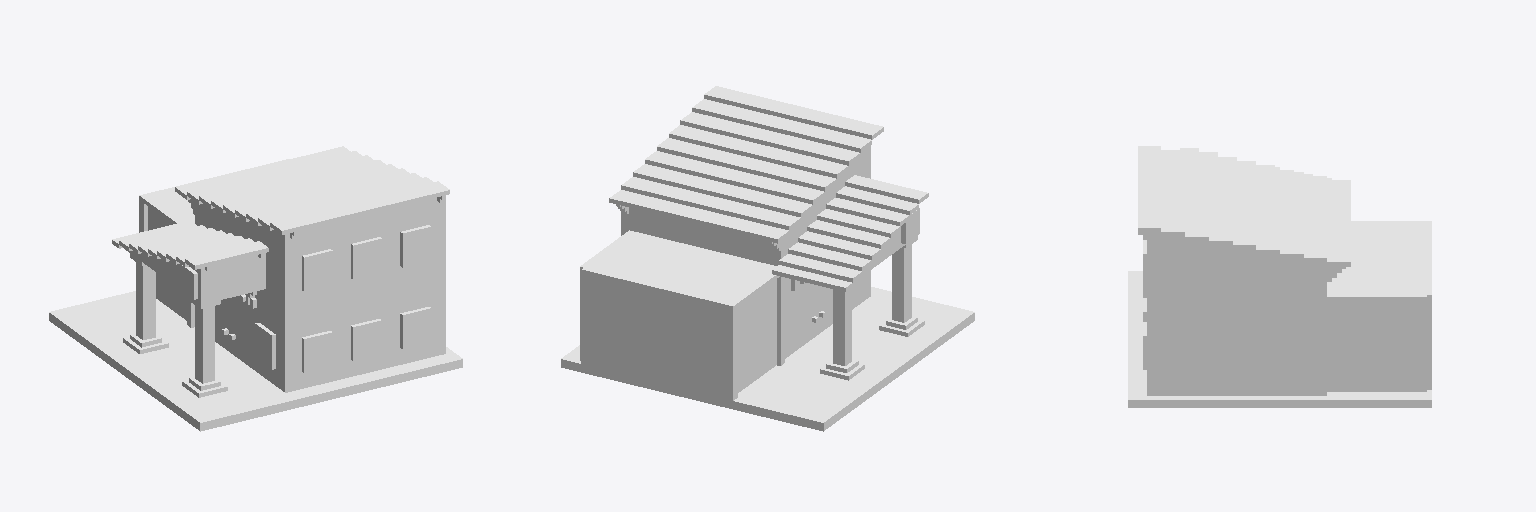
The model's file is polisi.obj.
3 views of the same model, side by side, from view 1: azimuth 30°, elevation 25°; view 2: azimuth 150°, elevation 25°; view 3: azimuth 270°, elevation 25° (orthographic).
Visible parts, largest first — view 1: object 1; view 2: object 1; view 3: object 1.
Part boxes in pixels (left/top/right/bottom): object 1: left=49, top=146, right=462, bottom=431; object 1: left=561, top=86, right=974, bottom=431; object 1: left=1128, top=146, right=1431, bottom=407.
Bounding box in the file's own units: 6.4 × 4.1 × 6.4.